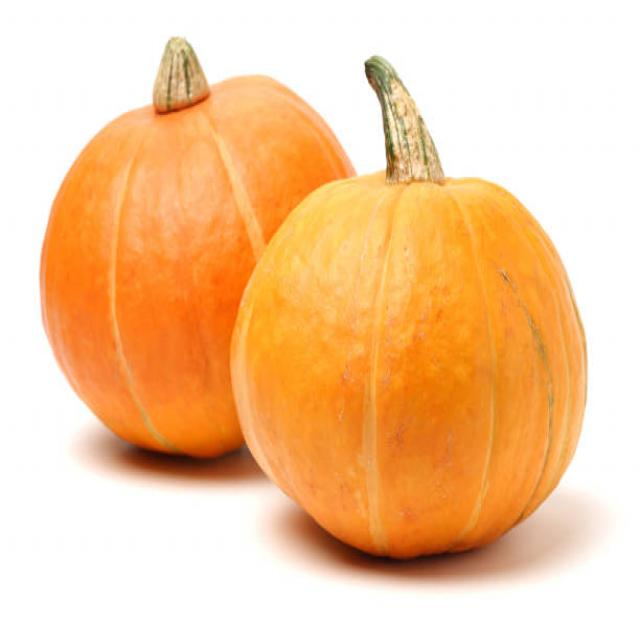Pumpkin: (278, 153, 593, 566), (30, 63, 238, 487)
